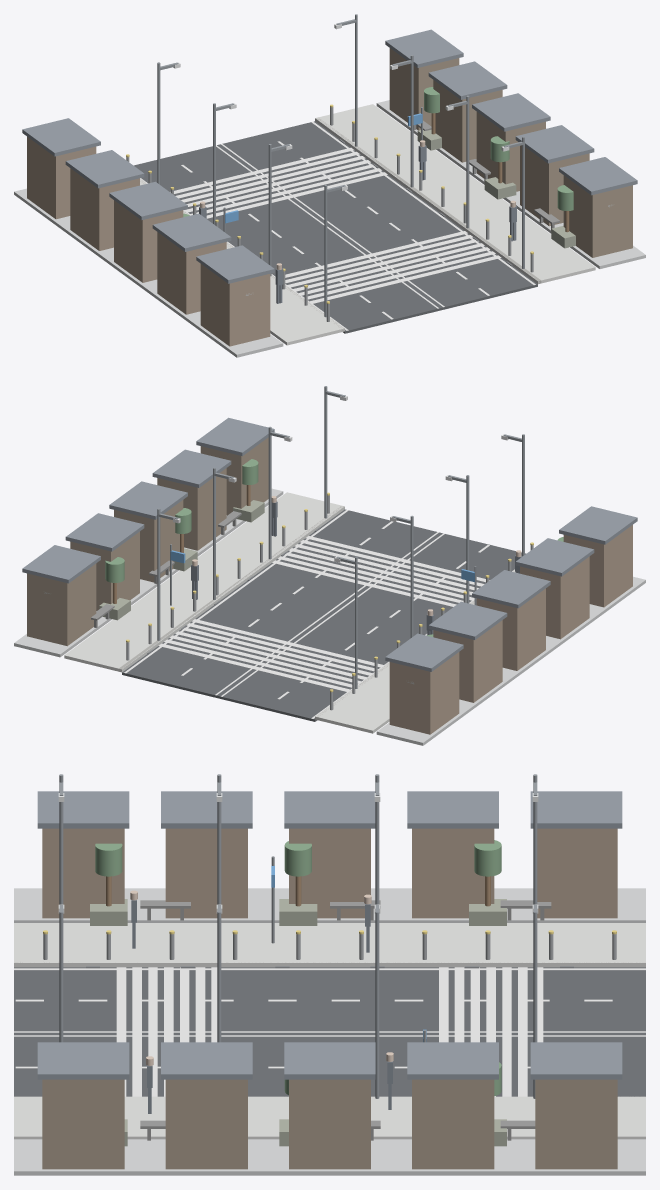
File: fixed.gltf
The picture shows the model from 3 angles, top to bottom: view 1: azimuth 30°, elevation 25°; view 2: azimuth 150°, elevation 25°; view 3: azimuth 270°, elevation 25°; orthographic projection. The views are drawn at different scales.
Size of the model in its own units: 21.2 by 6.78 by 20.
